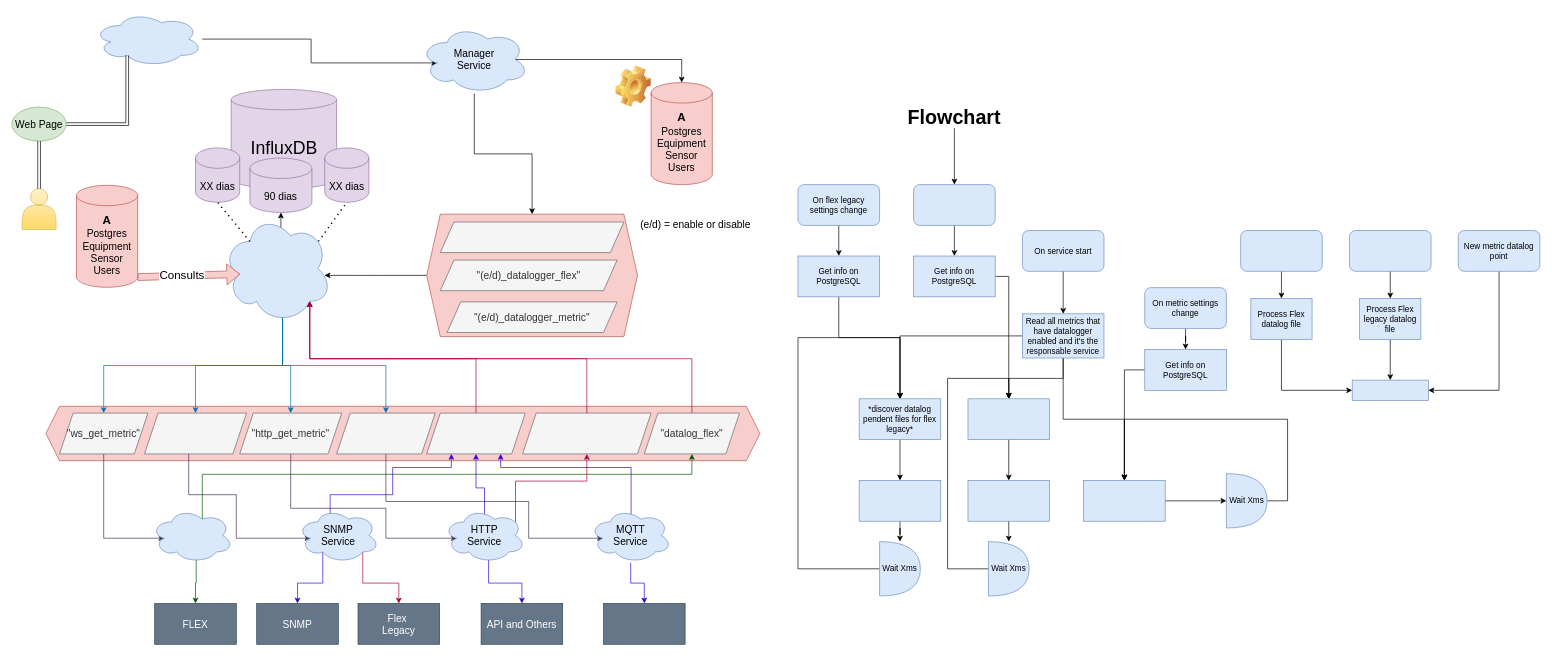
Image size: 1552x656. Some labels were removed from this diagram. The shapes that lost their labels are listed below. From the top down, each one's box as (x1, y1, x2, y2) in pixels, then its label:
(93, 11, 202, 66): Macro Gateway
(913, 184, 995, 225): On flex settings change
(440, 221, 624, 253): "(e/d)_datalogger_flex_legacy"
(1240, 230, 1322, 271): New Flex datalog file
(1349, 230, 1431, 271): New Flex legacy datalog file
(222, 214, 332, 323): Datalogger Service
(1352, 379, 1428, 401): Save on InfluxDB
(144, 412, 247, 454): "snmp_get_metric"
(336, 412, 435, 454): "mqtt_get_metric"
(426, 412, 525, 454): "datalog_metric"
(522, 412, 651, 454): "datalog_flex_legacy"
(967, 398, 1050, 440): *discover pendent files for flex*
(859, 480, 941, 521): request to HTTP queue
(967, 480, 1050, 521): request to WS queue
(1083, 480, 1165, 521): get data point for others protocols
(151, 508, 233, 563): Web Socket Service
(603, 603, 685, 644): MQTT
